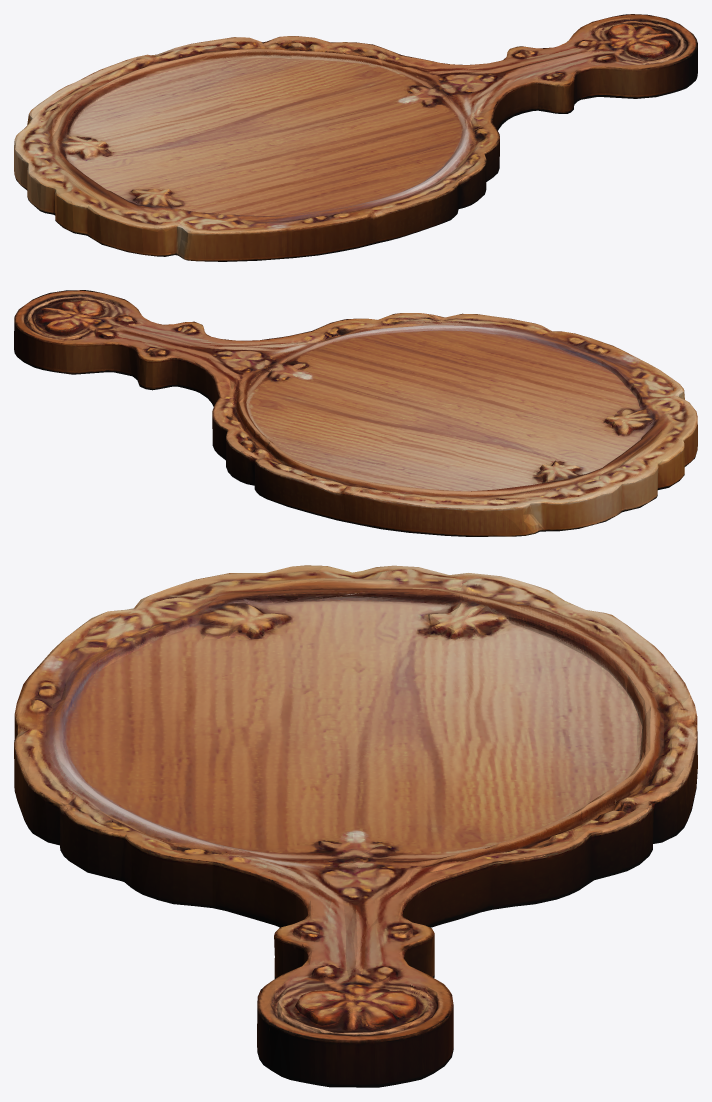
Rendered from wooden-hand-mirror-3d.jpeg.glb.
The picture shows the model from 3 angles, top to bottom: view 1: azimuth 30°, elevation 25°; view 2: azimuth 150°, elevation 25°; view 3: azimuth 270°, elevation 25°; orthographic projection. The views are drawn at different scales.
Visible parts, largest first — view 1: world; view 2: world; view 3: world.
Boxes of the visible parts, <box> form: world: <box>14,14,697,261</box>; world: <box>14,290,697,536</box>; world: <box>14,565,697,1087</box>.
Bounding box in the file's own units: 1 × 0.0519 × 0.601.
1 material, 1 textured.
